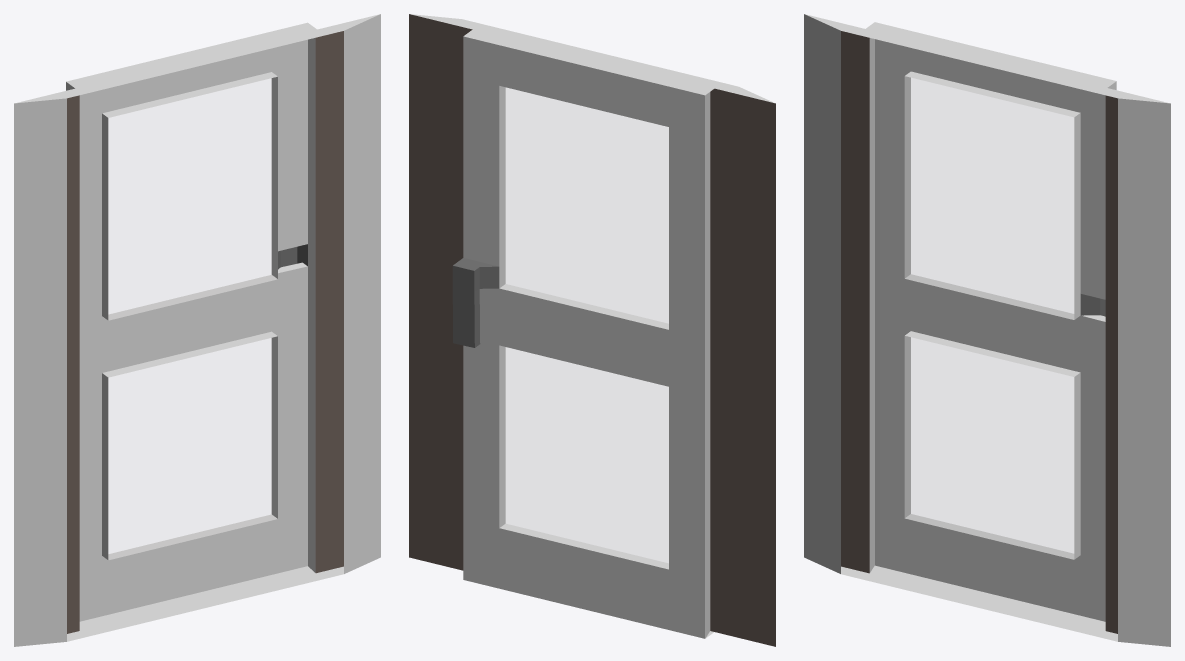
File: MP_Door.fbx
The picture shows the model from 3 angles, left to right: view 1: azimuth 30°, elevation 25°; view 2: azimuth 150°, elevation 25°; view 3: azimuth 330°, elevation 25°; orthographic projection.
Visible parts, largest first — view 1: Door; view 2: Door; view 3: Door.
Part boxes in pixels (x1,y1,x2,y2): Door: (14, 14, 380, 646); Door: (409, 14, 775, 646); Door: (804, 14, 1170, 646).
Bounding box in the file's own units: 459 × 649 × 60.65.
